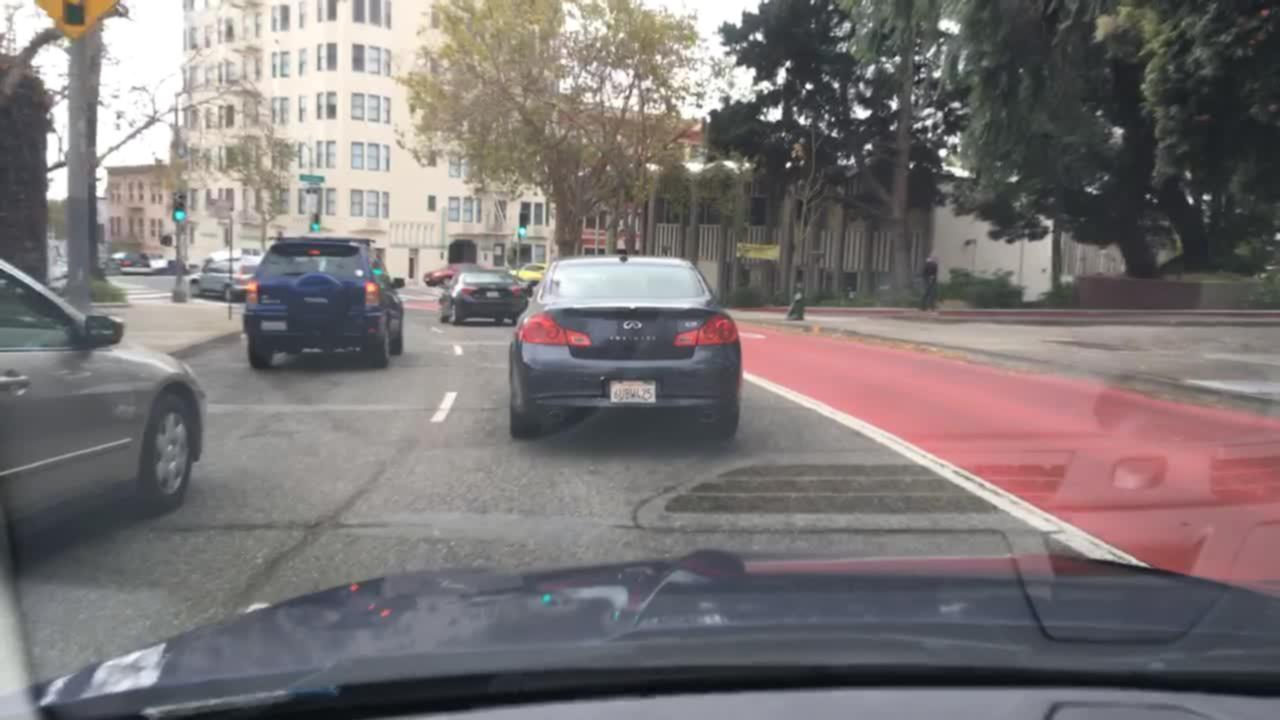Infiniti: (615, 315, 652, 336)
